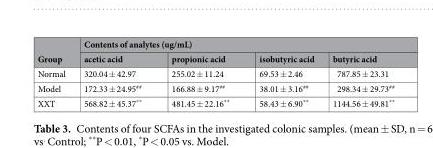table: (36, 37, 393, 109)
table column: (155, 37, 243, 109), (73, 37, 155, 109), (243, 37, 322, 109), (322, 37, 393, 109), (36, 37, 73, 109)
table column header: (36, 37, 393, 65)
table row: (36, 50, 393, 65), (36, 65, 393, 80), (36, 80, 393, 95), (36, 95, 393, 109), (36, 37, 393, 50)
table spanning cell: (73, 37, 393, 50), (36, 37, 73, 65)
